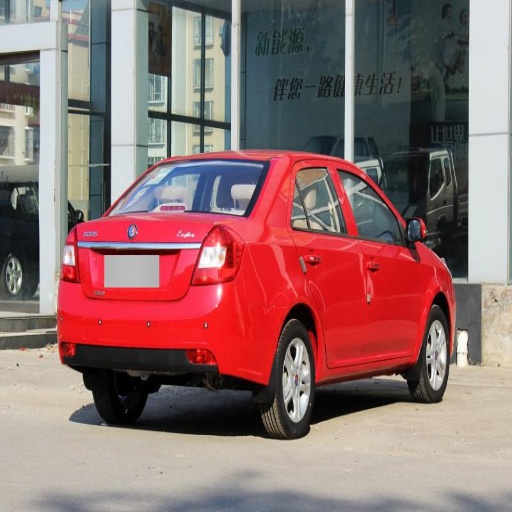back_bumper: (56, 273, 284, 382)
back_right_door: (290, 159, 370, 364)
tailgate: (77, 212, 202, 297)
trunk: (63, 242, 202, 301)
